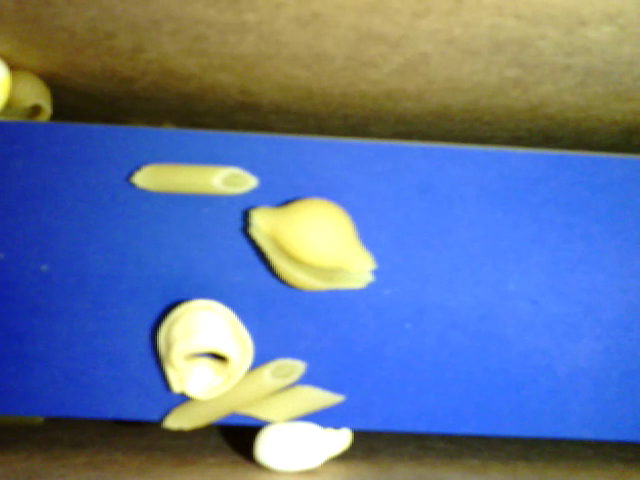penne: (162, 357, 306, 434), (236, 385, 346, 426), (128, 161, 260, 195)
shell: (242, 195, 379, 291), (6, 69, 59, 123)
tortellini: (156, 299, 255, 399)
